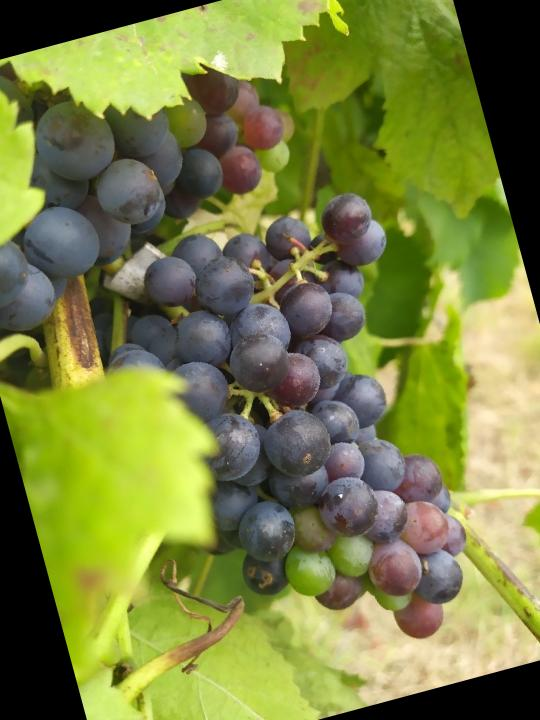grape: (74, 182, 495, 704)
